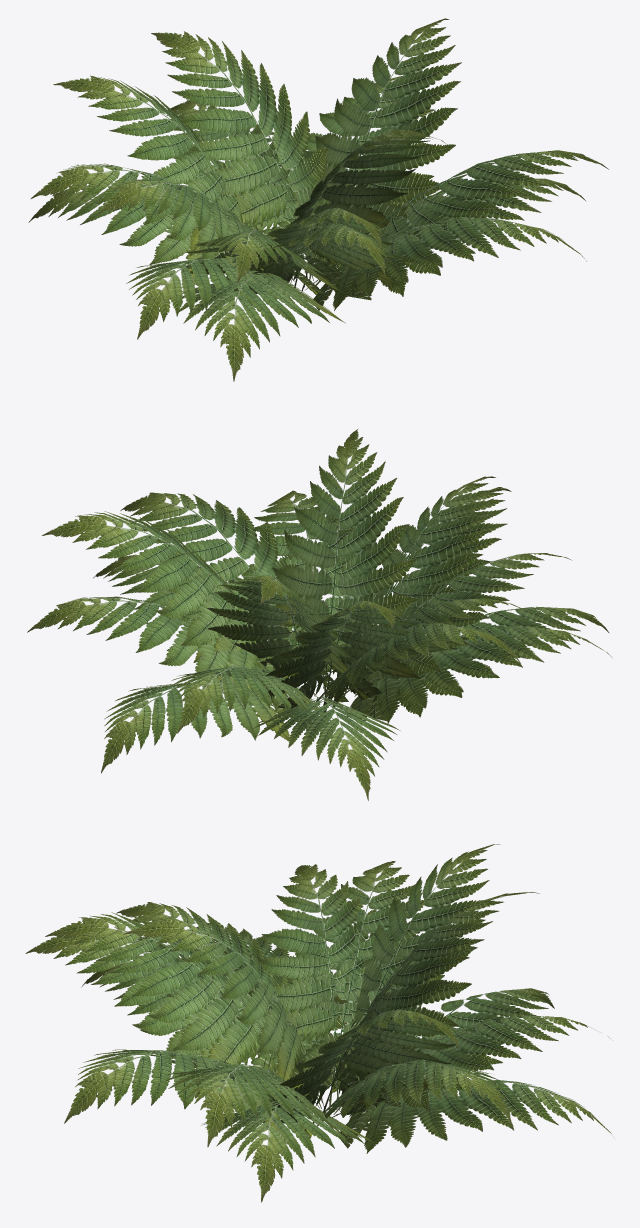
The model's file is fern_4.glb.
The picture shows the model from 3 angles, top to bottom: view 1: azimuth 30°, elevation 25°; view 2: azimuth 150°, elevation 25°; view 3: azimuth 270°, elevation 25°; orthographic projection. The views are drawn at different scales.
Parts seen in each view (by area): view 1: SM_MZRa_Fern_B0512_MI_MZRa_Fern_B051_0; view 2: SM_MZRa_Fern_B0512_MI_MZRa_Fern_B051_0; view 3: SM_MZRa_Fern_B0512_MI_MZRa_Fern_B051_0.
Part boxes in pixels (x1=…): SM_MZRa_Fern_B0512_MI_MZRa_Fern_B051_0: x1=28, y1=18, x2=608, y2=381; SM_MZRa_Fern_B0512_MI_MZRa_Fern_B051_0: x1=27, y1=429, x2=612, y2=800; SM_MZRa_Fern_B0512_MI_MZRa_Fern_B051_0: x1=25, y1=844, x2=611, y2=1202.
Bounding box in the file's own units: 1.78 × 0.6881 × 1.75.
1 material, 1 textured.
